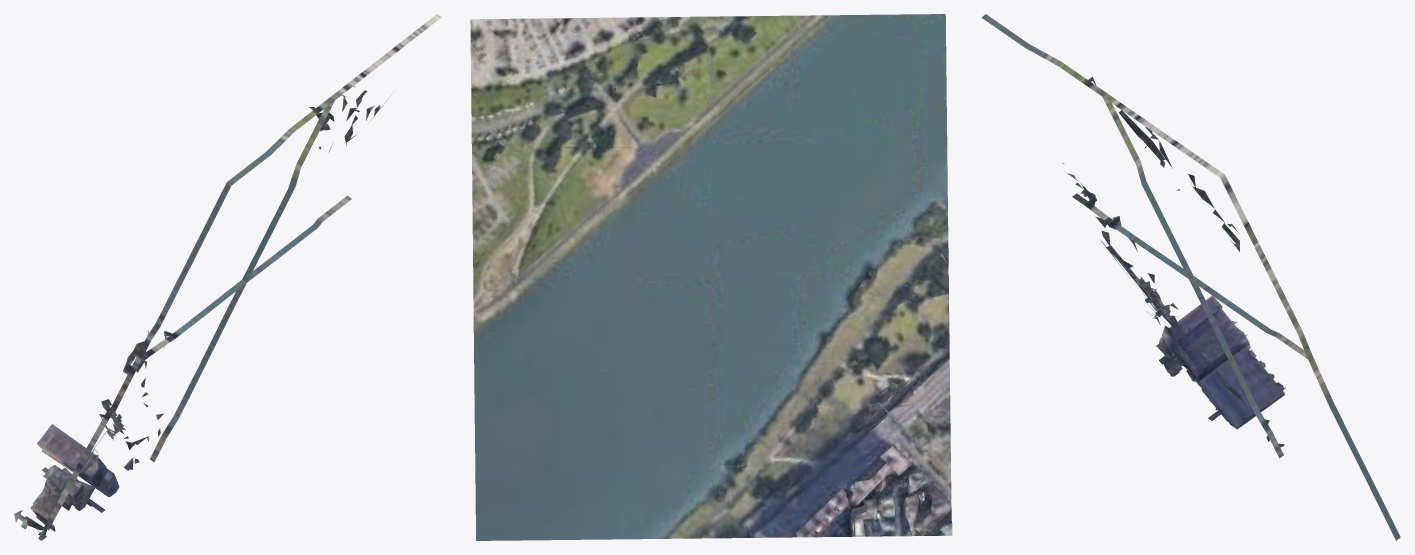
The picture shows the model from 3 angles, left to right: view 1: azimuth 30°, elevation 25°; view 2: azimuth 150°, elevation 25°; view 3: azimuth 270°, elevation 25°; orthographic projection. The views are drawn at different scales.
Bounding box in the file's own units: 631 × 563 × 515.
Materials: 1 (1 with a texture image).
